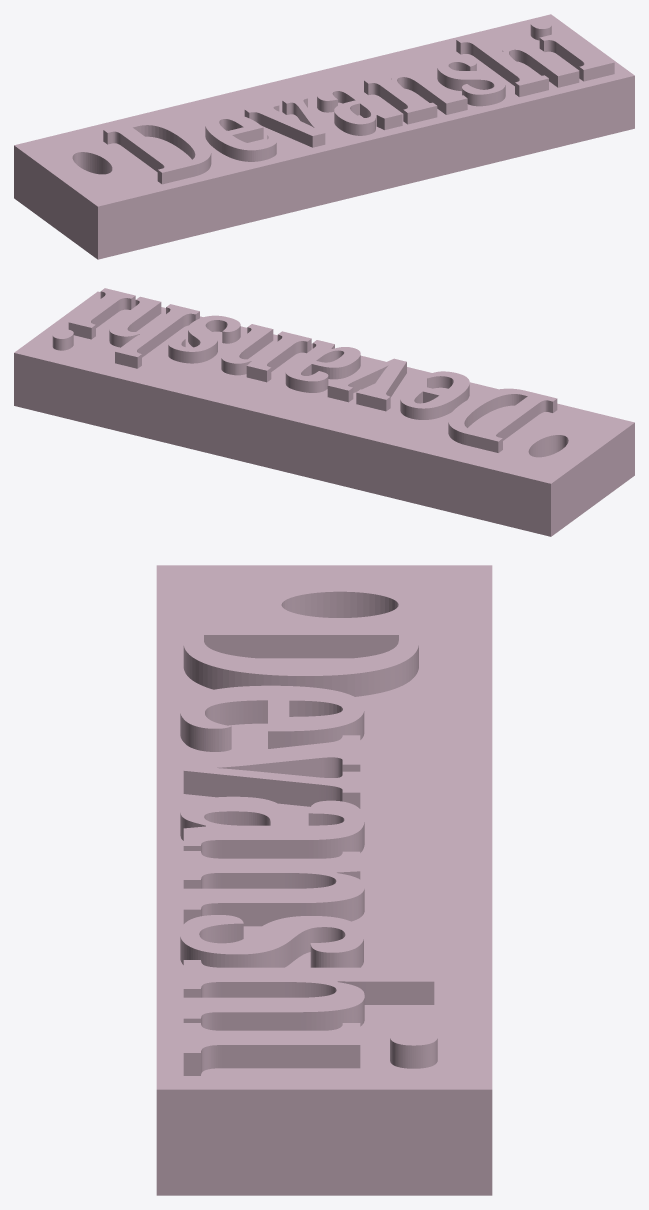
File: Neat Hango (1).glb
3 views of the same model, one above another, from view 1: azimuth 30°, elevation 25°; view 2: azimuth 150°, elevation 25°; view 3: azimuth 270°, elevation 25° (orthographic). The views are drawn at different scales.
Visible parts, largest first — view 1: Mesh_Mesh_head_geo.001_lambert2SG.001; view 2: Mesh_Mesh_head_geo.001_lambert2SG.001; view 3: Mesh_Mesh_head_geo.001_lambert2SG.001.
Boxes of the visible parts, x1,y1,x2,y2 form: Mesh_Mesh_head_geo.001_lambert2SG.001: (14, 14, 634, 259); Mesh_Mesh_head_geo.001_lambert2SG.001: (14, 288, 634, 536); Mesh_Mesh_head_geo.001_lambert2SG.001: (156, 565, 492, 1195).
Size of the model in its own units: 0.159 by 0.0183 by 0.043.
